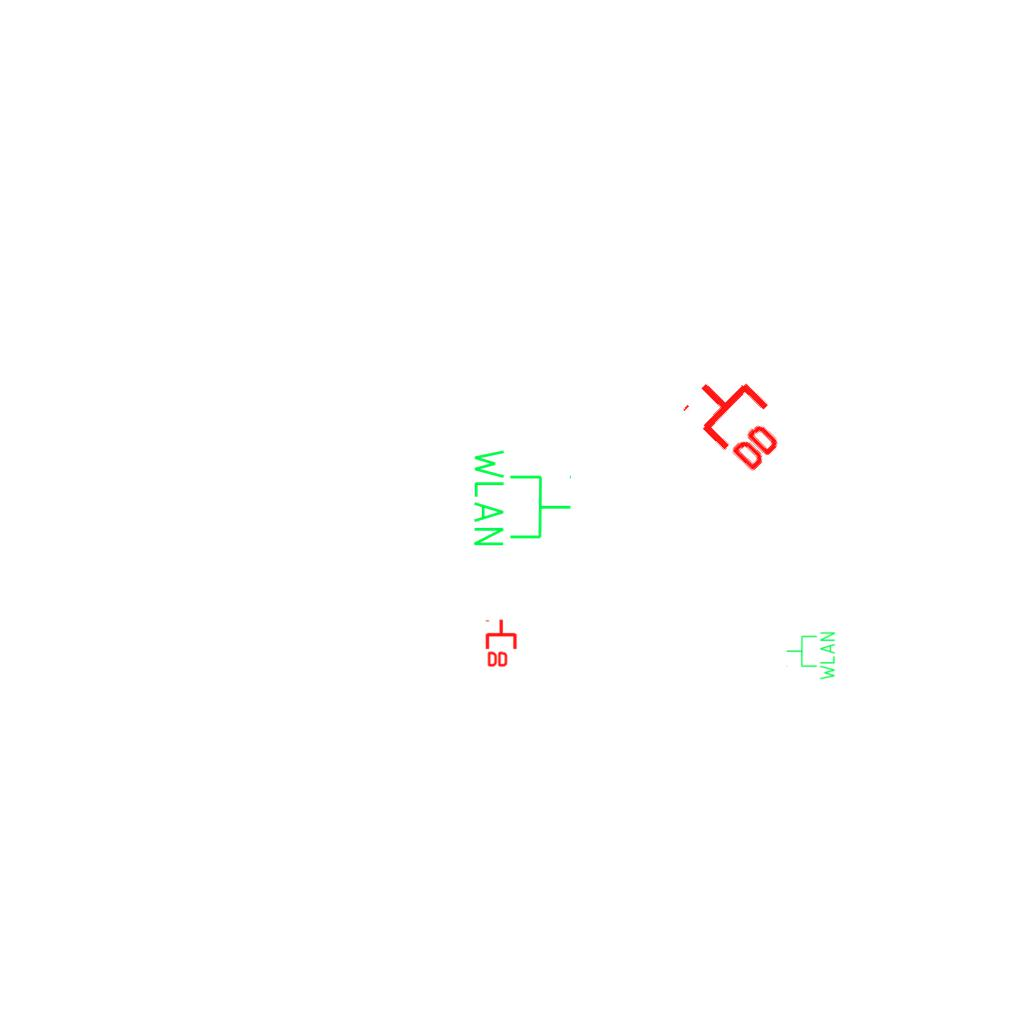Datenanschluss_zweifach: (678, 357, 801, 480), (485, 618, 519, 669)
WLAN: (470, 445, 574, 550), (785, 630, 837, 682)
